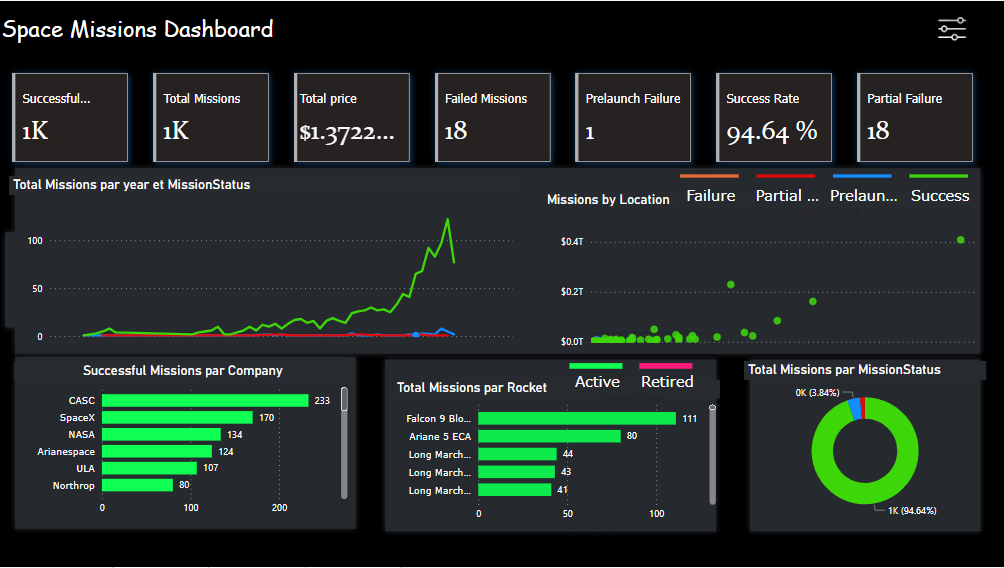

The dashboard page shown, as its layout file describes it:
{"tool":"powerbi","page":{"name":"Page 2","canvas":[1280,720],"ordinal":1},"visuals":[{"type":"shape","box":[12.7,205,1242.9,251.1],"z":0},{"type":"shape","box":[12.1,445.3,448.7,233.9],"z":1000},{"type":"shape","box":[483.4,448.7,436.6,233.9],"z":2000},{"type":"shape","box":[947.7,448.7,308.4,233.9],"z":3000},{"type":"shape","box":[0,286.1,1231.8,136.7],"z":4000},{"type":"scatterChart","title":"Missions by Location","fields":{"X":["All misures.Total Missions"],"Y":["All misures.Total price"],"Series":["Space Missions.MissionStatus"],"Category":["Space Missions.Location"]},"box":[692,242,554,206],"z":5000},{"type":"clusteredBarChart","fields":{"Y":["All misures.Successful Missions"],"Category":["Space Missions.Company"]},"box":[19.1,459.3,429.1,213],"z":6000},{"type":"clusteredBarChart","fields":{"Y":["All misures.Total Missions"],"Category":["Space Missions.Rocket"]},"box":[500,482,416,198],"z":7000},{"type":"donutChart","title":"Total Missions par MissionStatus","fields":{"Category":["Space Missions.MissionStatus"],"Y":["All misures.Total Missions"]},"box":[947.7,457.4,308.4,209.6],"z":8000},{"type":"lineChart","fields":{"Category":["Date Table.year"],"Y":["All misures.Total Missions"],"Series":["Space Missions.MissionStatus"]},"box":[12,222,646,218],"z":9000},{"type":"columnChart","fields":{"Y":["All misures.Lagend"],"Category":["Space Missions.MissionStatus"]},"box":[808,206,472,74],"z":10000},{"type":"columnChart","fields":{"Y":["All misures.Lagend"],"Category":["Space Missions.RocketStatus"]},"box":[640,446,330,72],"z":11000},{"type":"cardVisual","fields":{"Data":["All misures.Successful Missions","All misures.Total Missions","All misures.Total price","All misures.Failed Missions","All misures.Prelaunch Failure","All misures.Success Rate","All misures.Partial Failure"]},"box":[0,74.7,1279.5,147.8],"z":12000},{"type":"shape","title":"Space Missions Dashboard","box":[19.1,14.3,1242.9,47.7],"z":13000},{"type":"image","box":[1174.6,6.4,71.5,62],"z":14000}]}

Visuals, with their boxes in screenshot pixels (x1, y1, x2, y2), scaled from the page's 1280x720 canvas onto the 1004x568 screenshot:
shape: pyautogui.locateOnScreen(10, 162, 985, 360)
shape: pyautogui.locateOnScreen(9, 351, 361, 536)
shape: pyautogui.locateOnScreen(379, 354, 722, 538)
shape: pyautogui.locateOnScreen(743, 354, 985, 538)
shape: pyautogui.locateOnScreen(0, 226, 966, 334)
"Missions by Location" scatterChart: pyautogui.locateOnScreen(543, 191, 977, 353)
clusteredBarChart - All misures.Successful Missions x Space Missions.Company: pyautogui.locateOnScreen(15, 362, 352, 530)
clusteredBarChart - All misures.Total Missions x Space Missions.Rocket: pyautogui.locateOnScreen(392, 380, 718, 536)
"Total Missions par MissionStatus" donutChart: pyautogui.locateOnScreen(743, 361, 985, 526)
lineChart - Date Table.year x All misures.Total Missions: pyautogui.locateOnScreen(9, 175, 516, 347)
columnChart - All misures.Lagend x Space Missions.MissionStatus: pyautogui.locateOnScreen(634, 163, 1003, 221)
columnChart - All misures.Lagend x Space Missions.RocketStatus: pyautogui.locateOnScreen(502, 352, 761, 409)
cardVisual - All misures.Successful Missions x All misures.Total Missions: pyautogui.locateOnScreen(0, 59, 1003, 176)
"Space Missions Dashboard" shape: pyautogui.locateOnScreen(15, 11, 990, 49)
image: pyautogui.locateOnScreen(921, 5, 977, 54)
